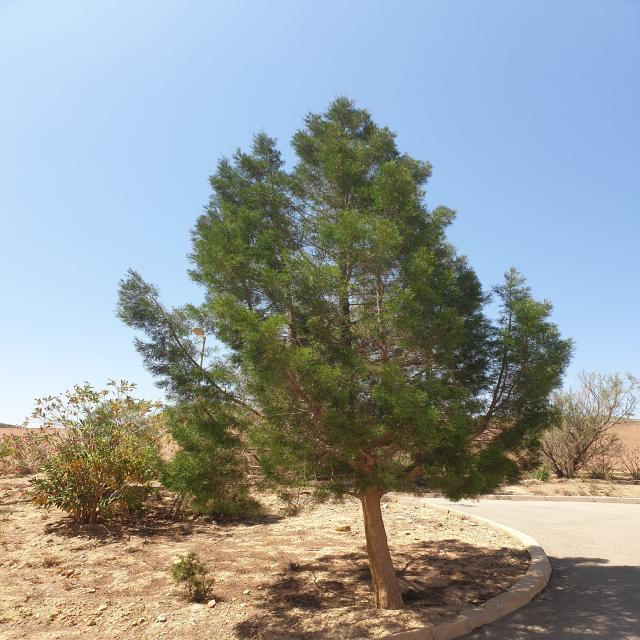Tree: (116, 97, 572, 611)
